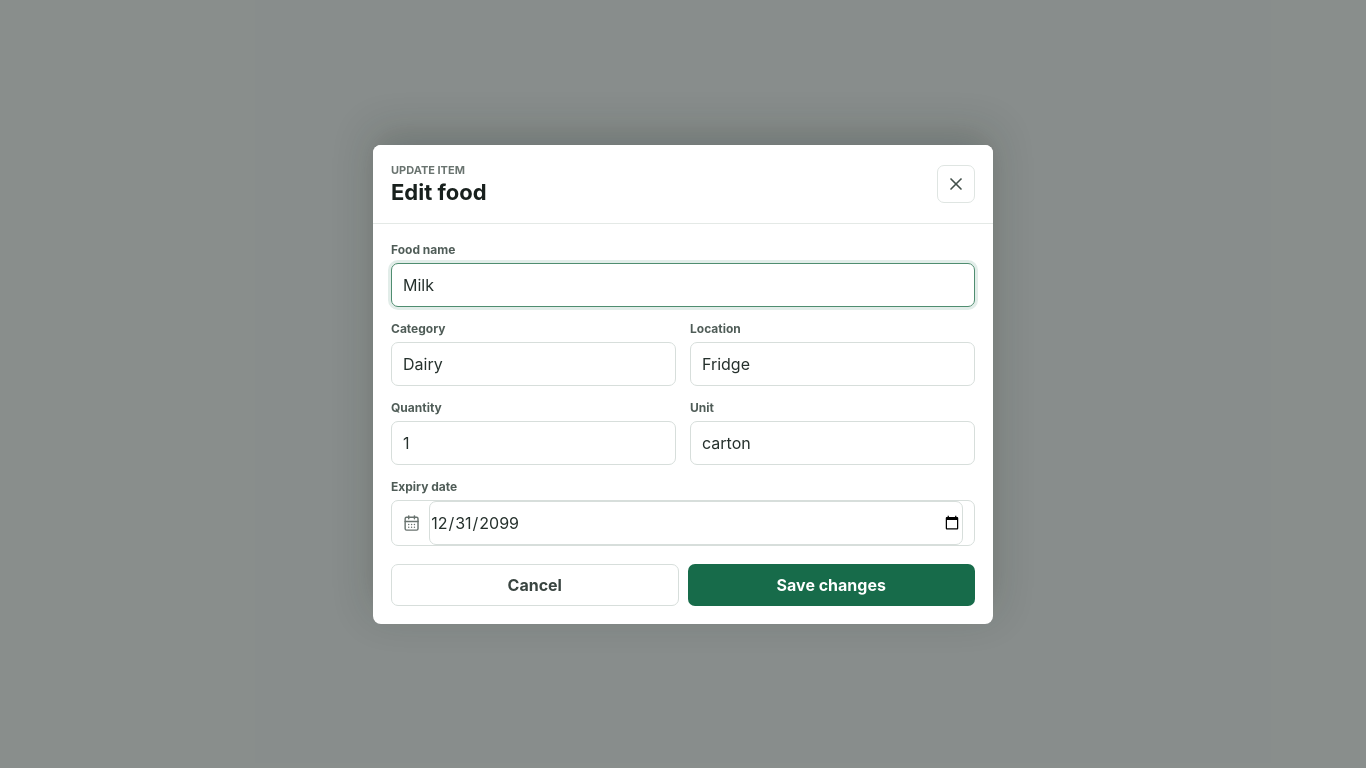
FoodForm › shows the error returned while saving
The width and height of the screenshot is (1366, 768).
Click the button "Save changes".
click(831, 584)  # box [688, 564, 975, 606]
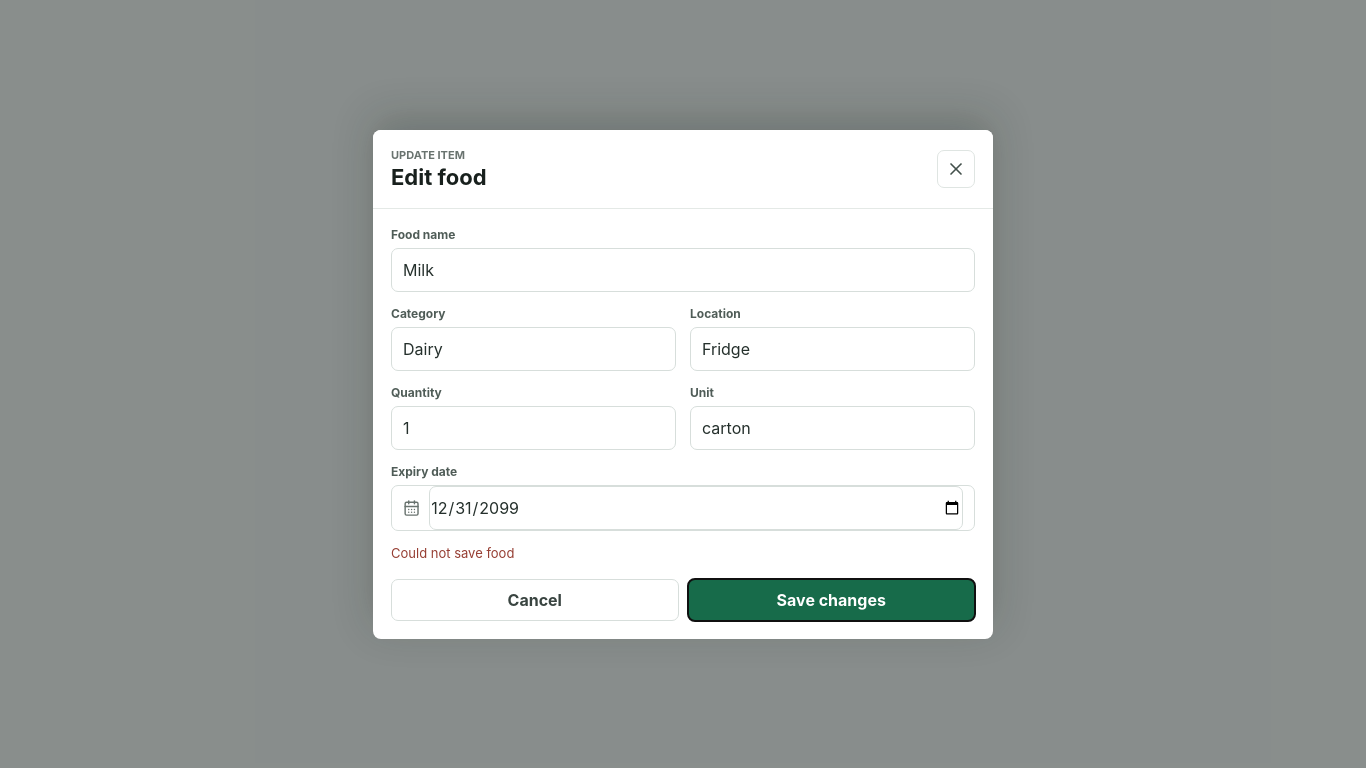
Result: the text "Could not save food" is shown at [391, 544, 514, 560]
